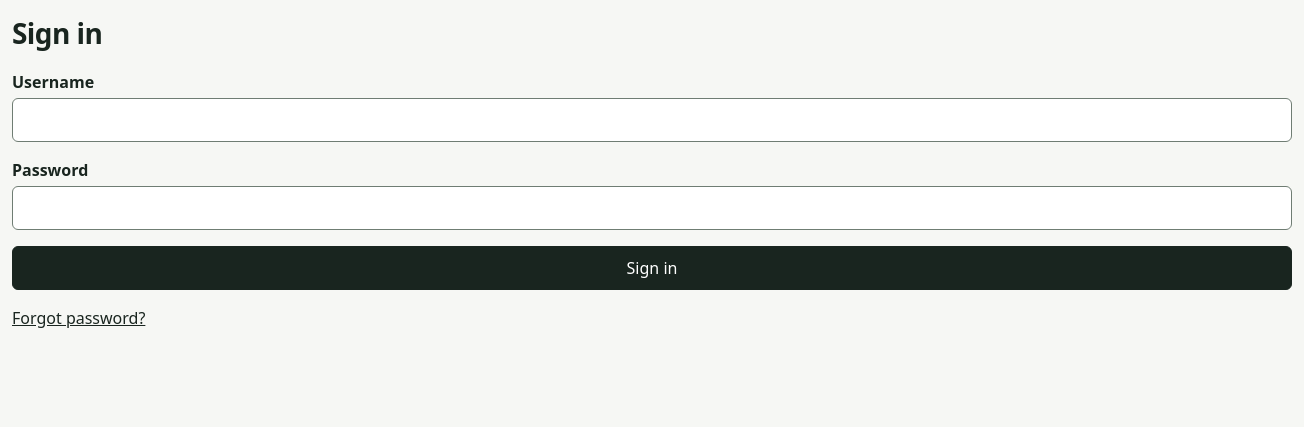
Test: keeps the entered password when a temporary outage prevents sign-in
Step 1. Type "Alice" into the field labelled "Username" → (652, 120), box [12,98,1292,142]
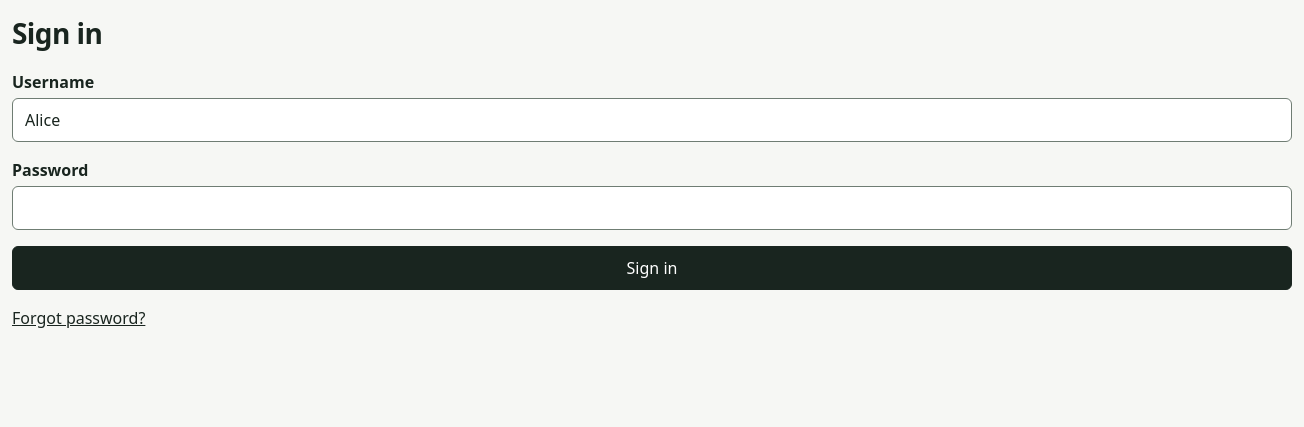
Step 2. Type "correct horse battery" into the password field labelled "Password" → (652, 208), box [12,186,1292,230]
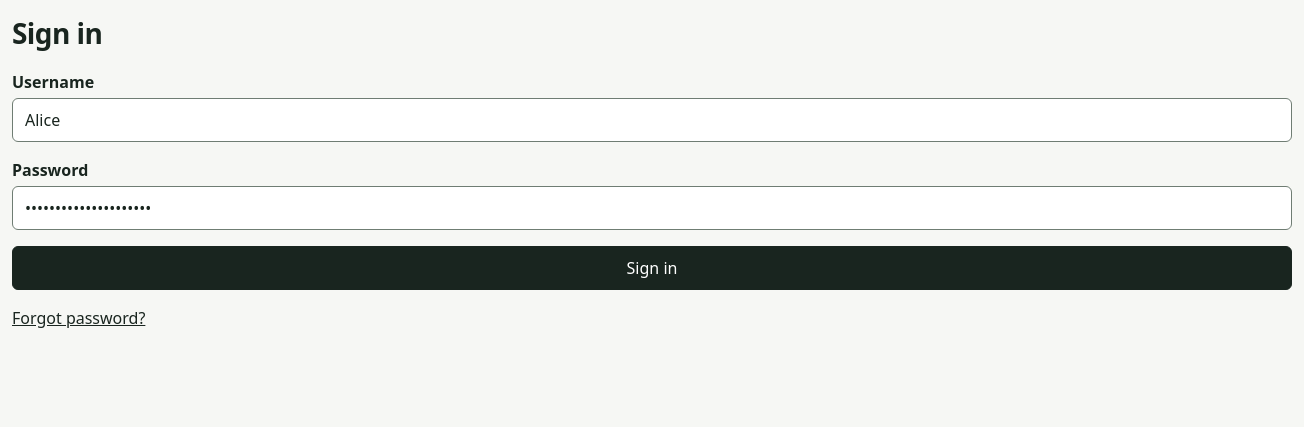
Step 3. Submit the form, box [12,70,1292,290]
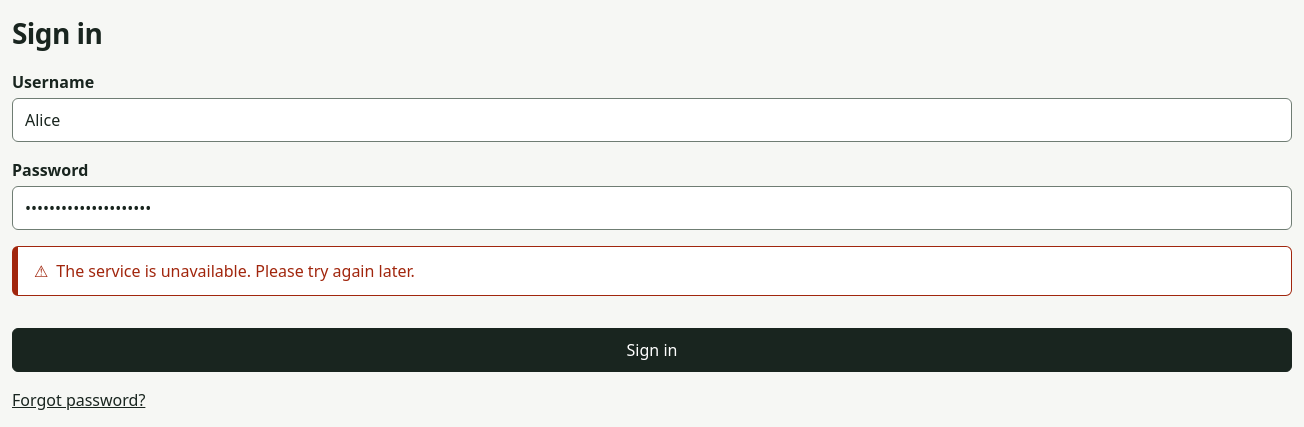
Result: the message "The service is unavailable. Please try again later." is shown at [12,246,1292,296]
